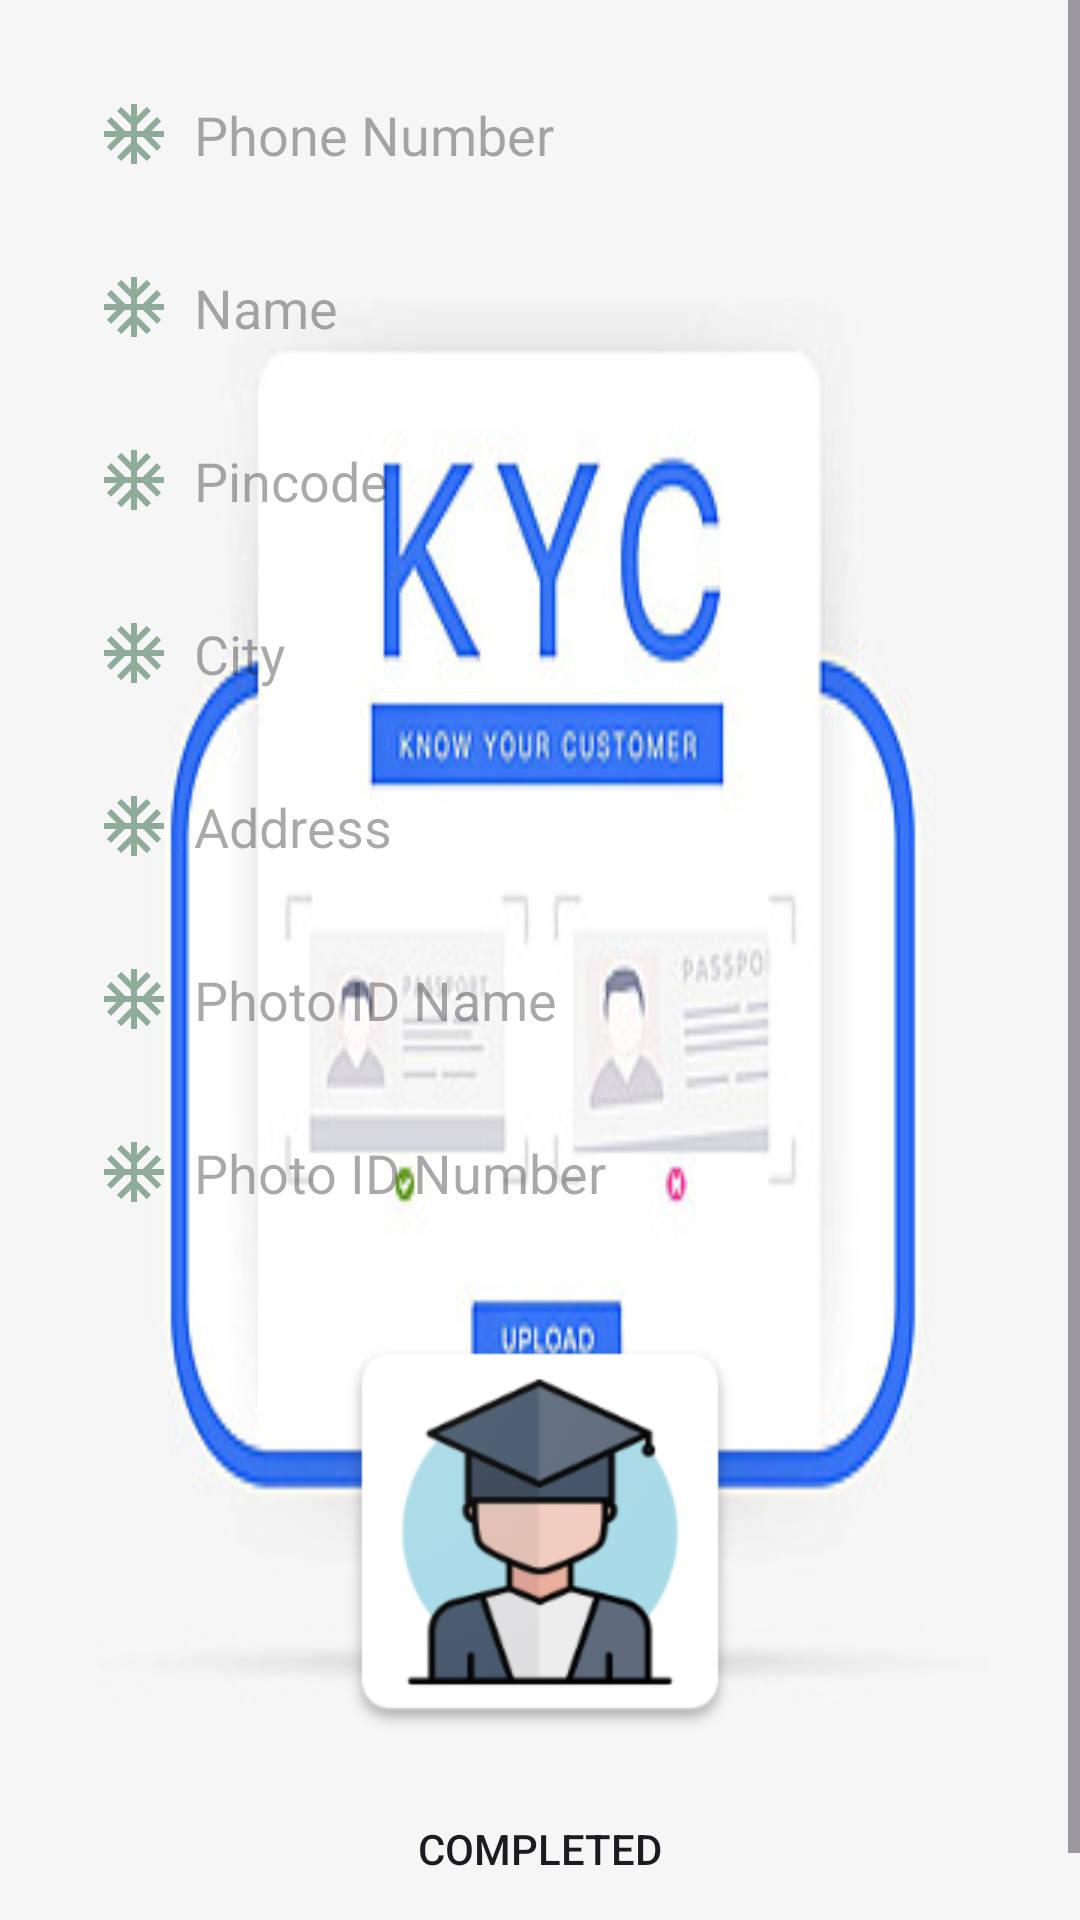

Screen size 1080w x 1920h. Icon name, then its box in pixels as bbox=(x1, y1, x2, y2):
Teacher Image: bbox=(402, 1379, 720, 1685)
